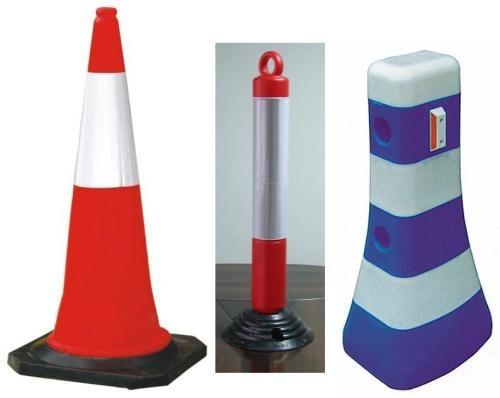cone_barrel: (329, 47, 491, 378), (39, 14, 176, 370), (231, 53, 303, 361)
